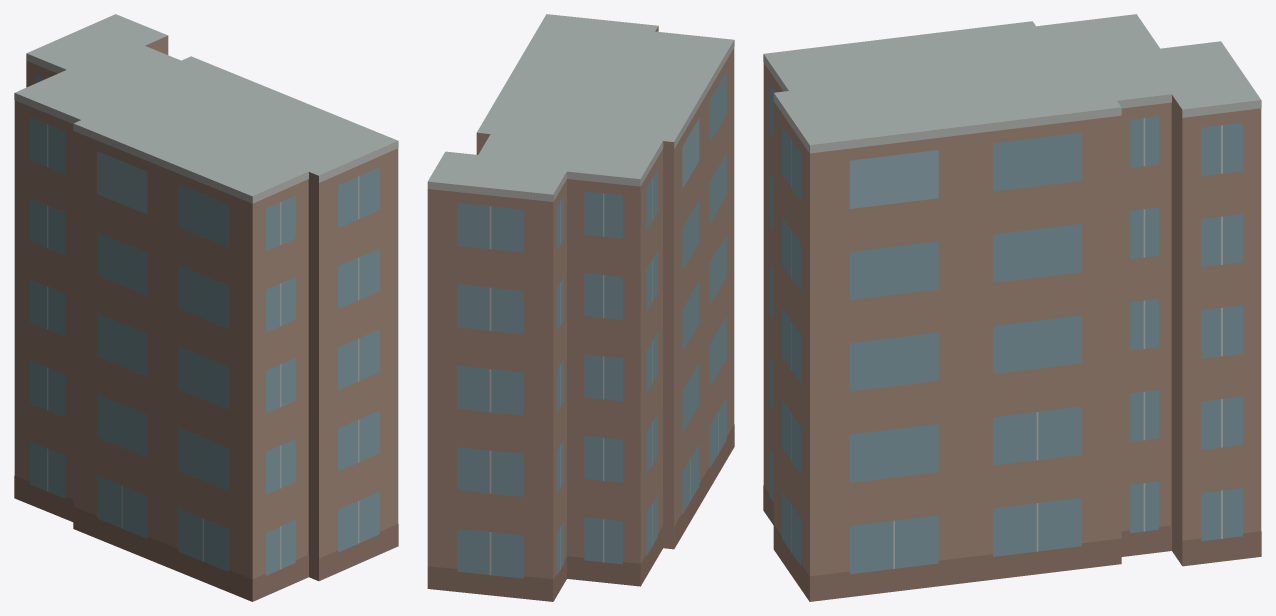
The model's file is survey-upis-32722762.glb.
3 renders of one model, left to right at view 1: azimuth 30°, elevation 25°; view 2: azimuth 150°, elevation 25°; view 3: azimuth 270°, elevation 25°, orthographic. The views are drawn at different scales.
Visible parts, largest first — view 1: survey-upis-32722762.tmp; view 2: survey-upis-32722762.tmp; view 3: survey-upis-32722762.tmp.
Boxes of the visible parts, x1,y1,x2,y2 form: survey-upis-32722762.tmp: (14,14,398,601); survey-upis-32722762.tmp: (427,14,734,601); survey-upis-32722762.tmp: (763,14,1261,601).
Size of the model in its own units: 8.36 by 13.55 by 13.41.
